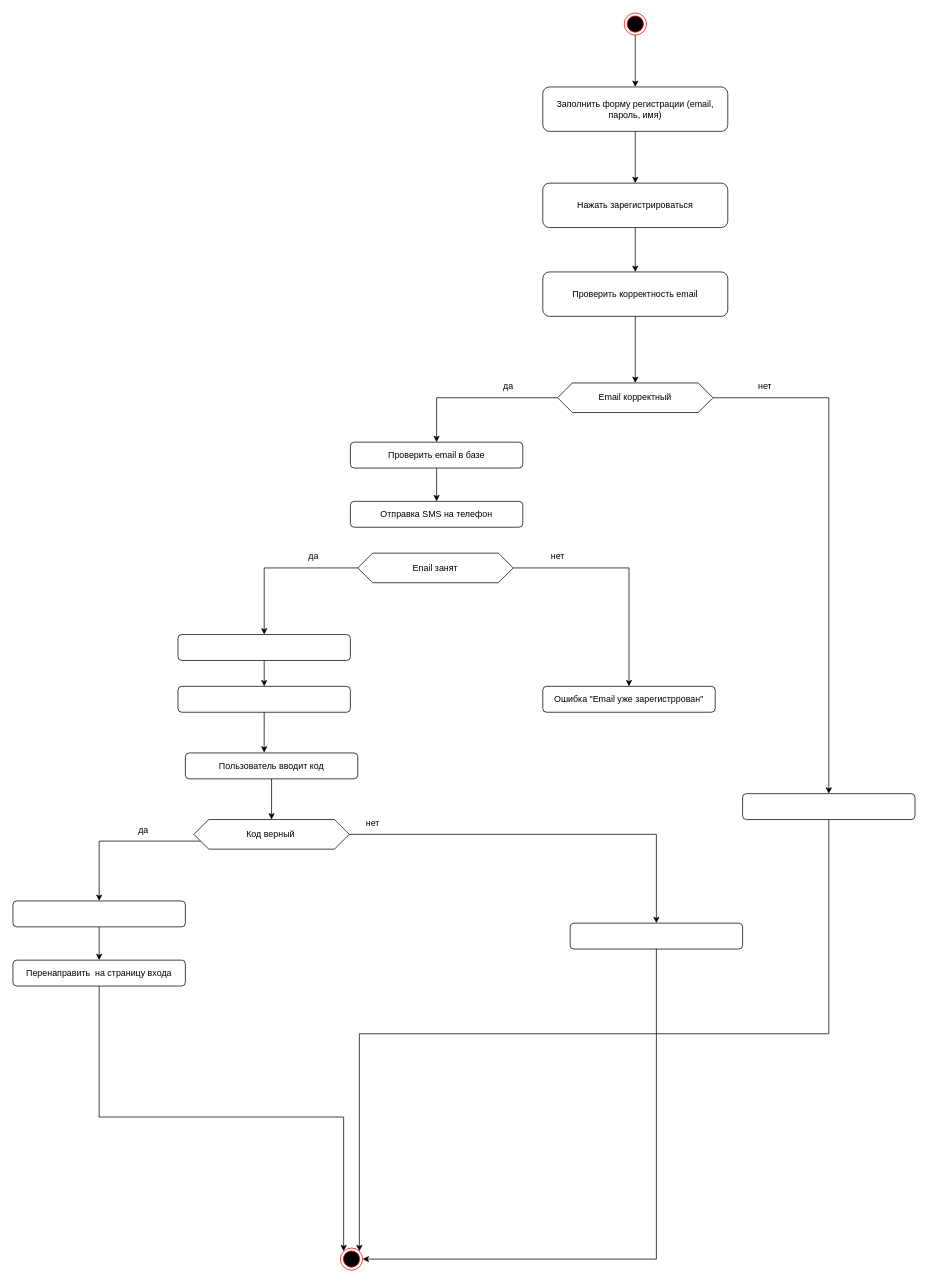
Image size: 928x1283. Some labels were removed from this diagram. Each missing label, with the box of its shape:
Неверный email: (742, 793, 915, 820)
Неверный код: (569, 922, 743, 949)
Отправить код на email: (177, 686, 350, 712)
Сгенирировать код потверждения: (177, 634, 350, 660)
Создать учетную запись: (12, 900, 185, 927)
